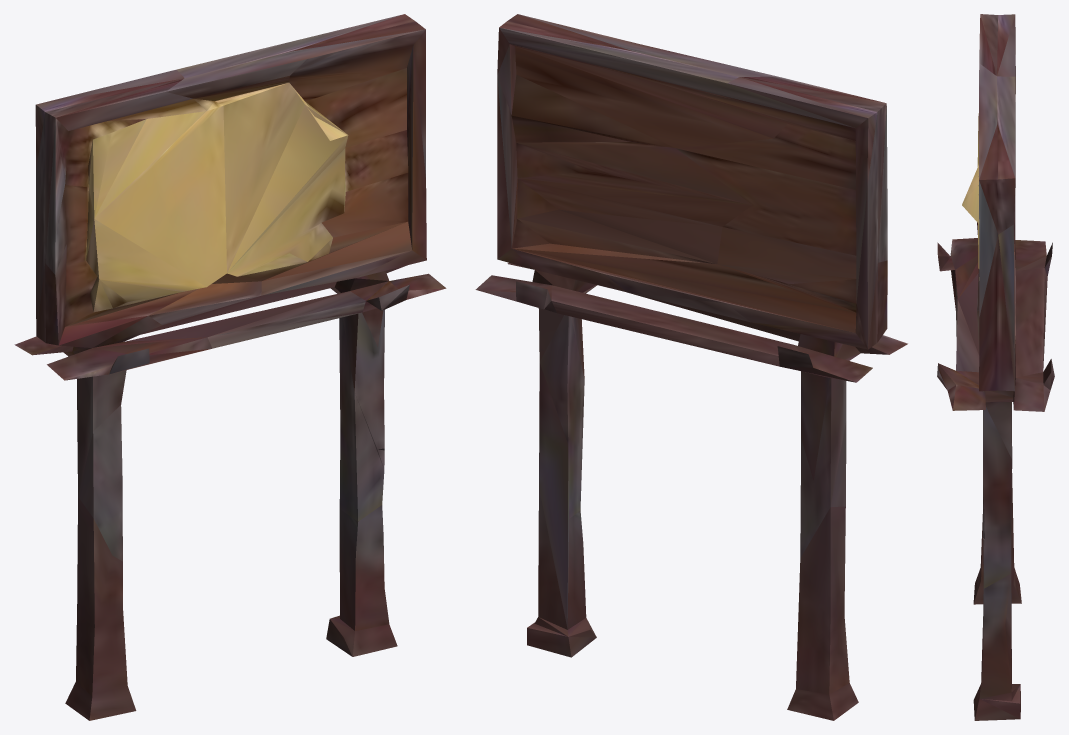
File: bg_desert_sign_1_lod1.glb
3 views of the same model, side by side, from view 1: azimuth 30°, elevation 25°; view 2: azimuth 150°, elevation 25°; view 3: azimuth 270°, elevation 25° (orthographic). The views are drawn at different scales.
Visible parts, largest first — view 1: body; view 2: body; view 3: body.
Part boxes in pixels (x1,y1,x2,y2): body: [14, 14, 446, 720]; body: [475, 14, 907, 720]; body: [937, 14, 1054, 720].
Size of the model in its own units: 1.97 by 2.99 by 0.5747.
Materials: 1 (1 with a texture image).
